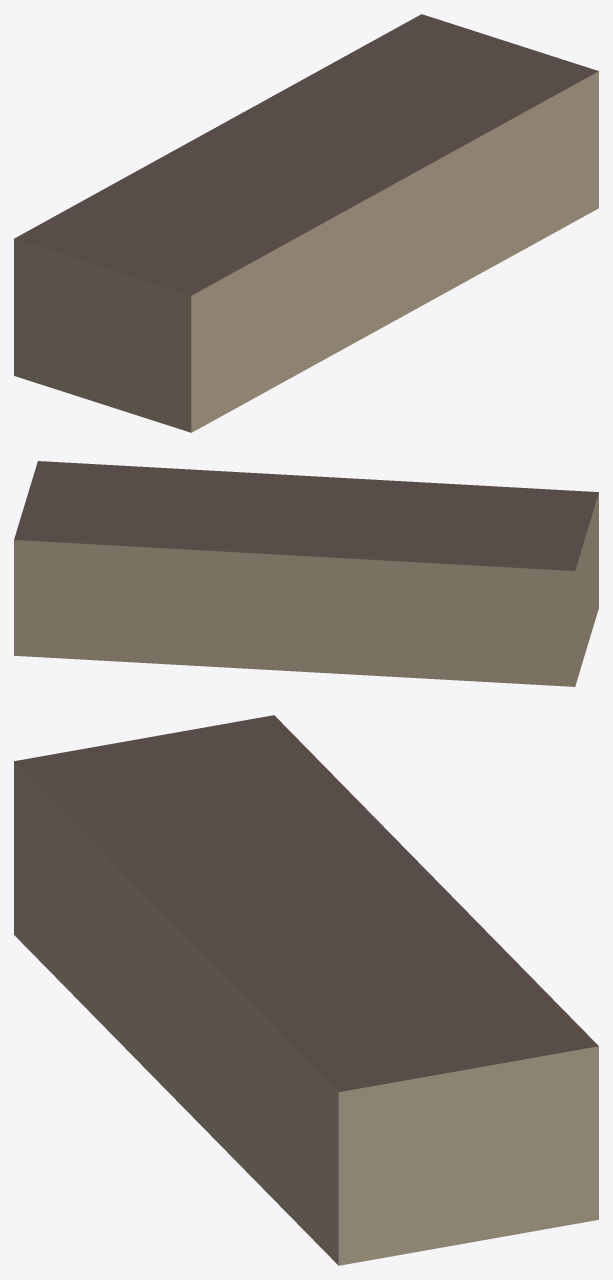
The picture shows the model from 3 angles, top to bottom: view 1: azimuth 30°, elevation 25°; view 2: azimuth 150°, elevation 25°; view 3: azimuth 270°, elevation 25°; orthographic projection. The views are drawn at different scales.
Visible parts, largest first — view 1: HP-w859488762; view 2: HP-w859488762; view 3: HP-w859488762.
Part boxes in pixels (x1,y1,x2,y2): HP-w859488762: [14, 14, 598, 432]; HP-w859488762: [14, 461, 598, 686]; HP-w859488762: [14, 715, 598, 1265].
Bounding box in the file's own units: 41.93 × 9 × 27.49.
